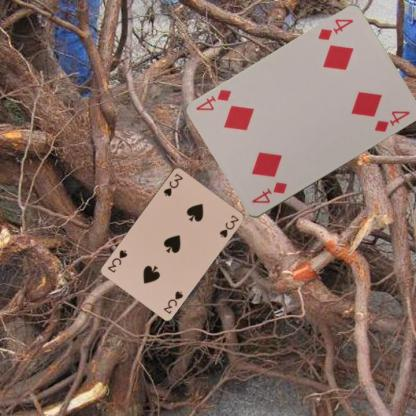3s: (160, 170, 184, 198), (161, 288, 184, 315)
4d: (315, 16, 355, 42), (249, 180, 288, 205)
